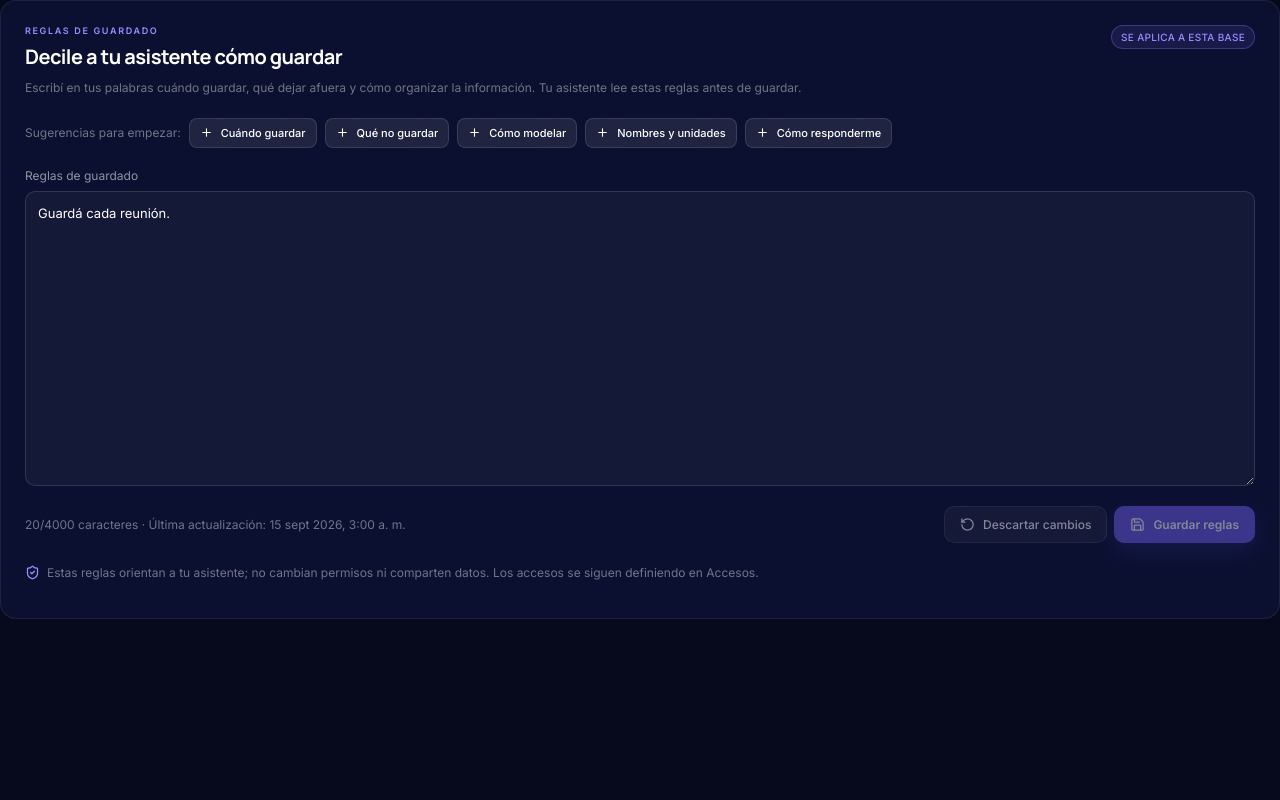
Test case: carga las reglas guardadas y las envía al guardar
Check: the button "Guardar reglas" is disabled, box [1114,506,1255,543]
Replace the text in the text box labelled "Reglas de guardado" with "No guardes tarjetas.". click: x=640, y=338
box: [25,191,1255,486]
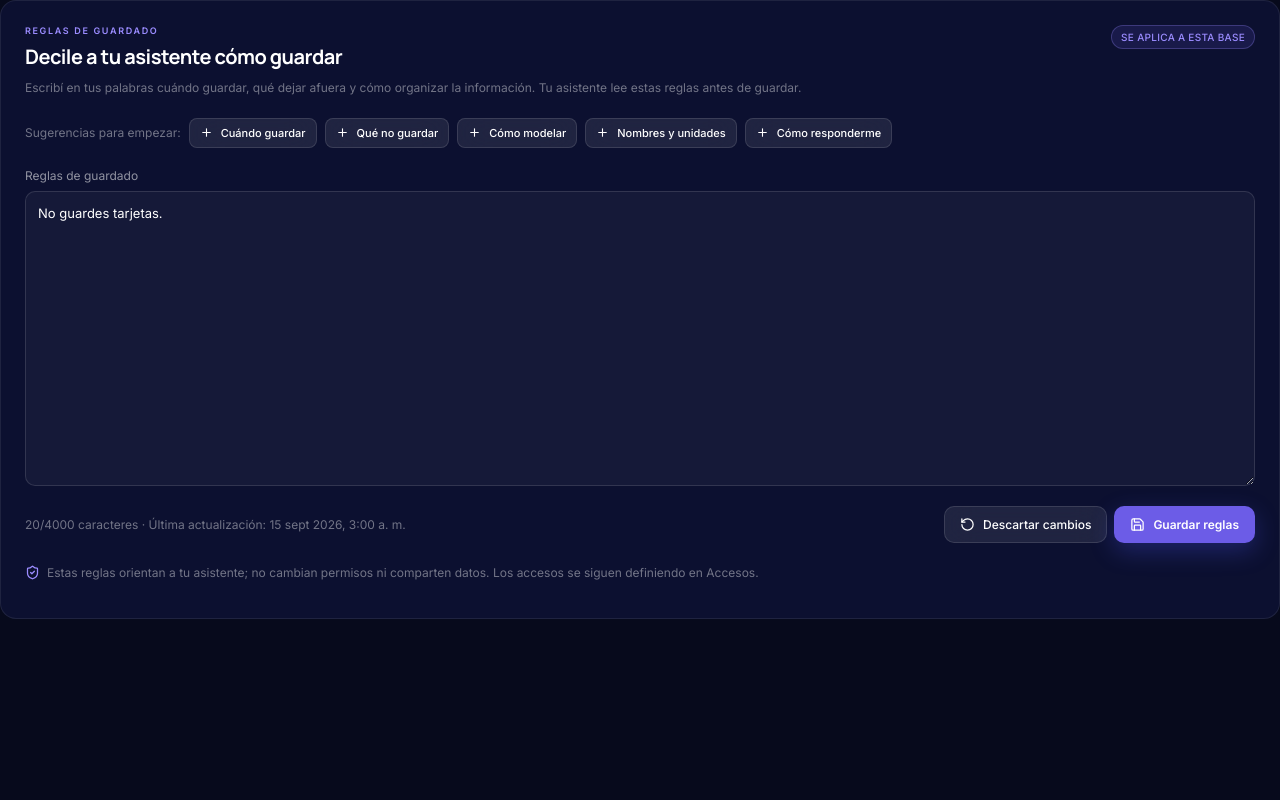
Check: the button "Guardar reglas" is enabled
Click the button "Guardar reglas". click: x=1185, y=524
box: [1114,506,1255,543]
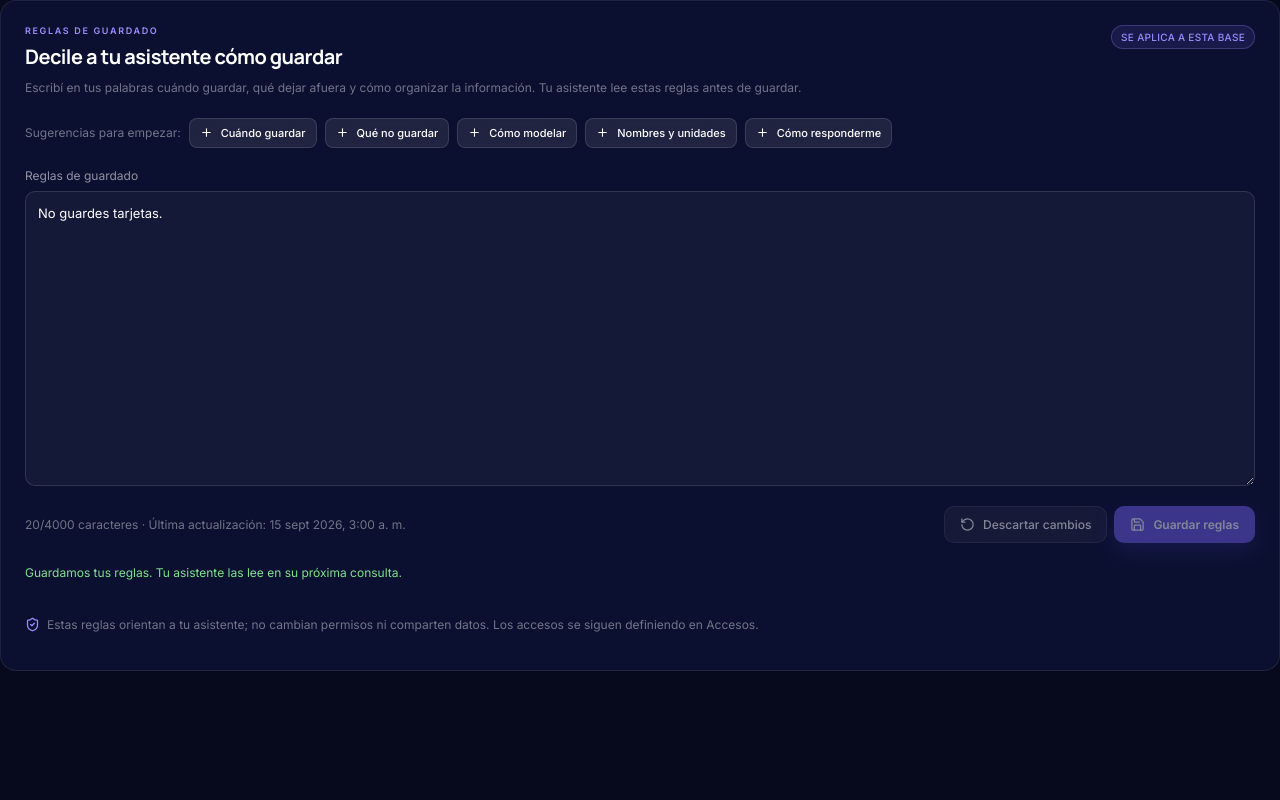
Check: the message shows "Guardamos tus reglas", box [25,565,402,580]
